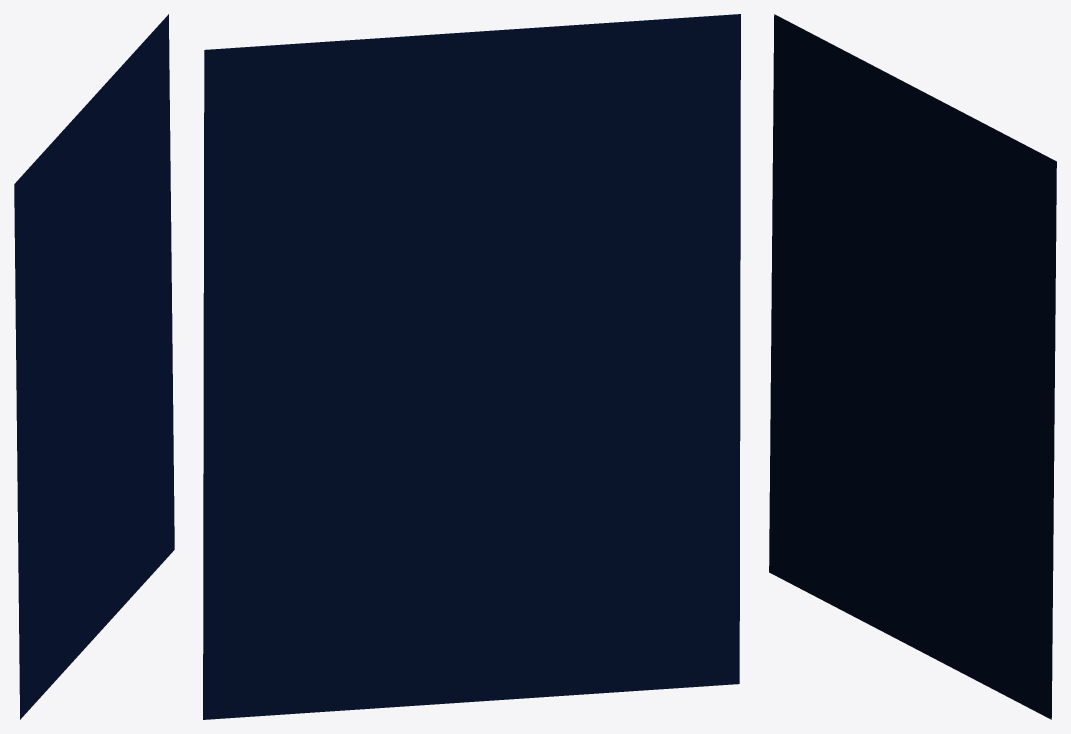
The picture shows the model from 3 angles, left to right: view 1: azimuth 30°, elevation 25°; view 2: azimuth 150°, elevation 25°; view 3: azimuth 270°, elevation 25°; orthographic projection. The views are drawn at different scales.
Visible parts, largest first — view 1: Cube.663; view 2: Cube.663; view 3: Cube.663.
Boxes of the visible parts, bbox=[...] form: Cube.663: bbox=[14, 14, 174, 719]; Cube.663: bbox=[203, 14, 740, 719]; Cube.663: bbox=[769, 14, 1056, 719].
Size of the model in its own units: 117 by 204 by 95.46.
